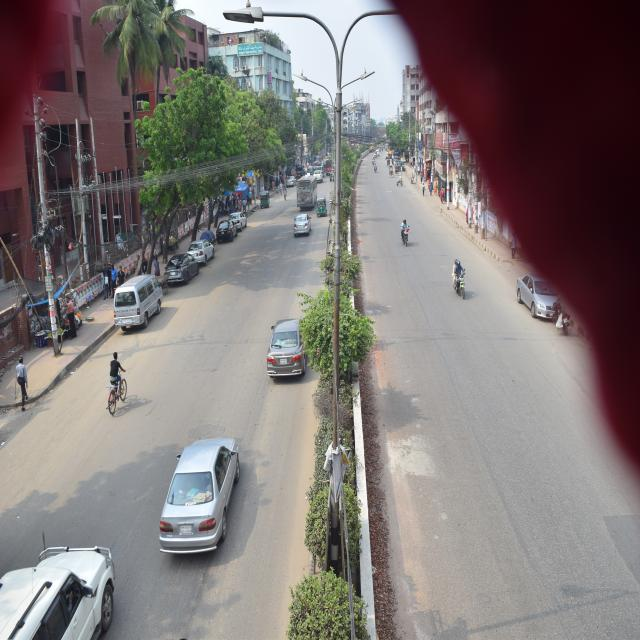bus: (293, 163, 319, 214)
car: (0, 527, 122, 640), (159, 425, 244, 569), (266, 305, 318, 389), (514, 269, 557, 321), (160, 248, 203, 287), (190, 236, 217, 267), (214, 216, 237, 246), (222, 206, 247, 233), (295, 212, 311, 237)
microbus: (108, 271, 166, 339)
motorbike: (548, 294, 574, 336), (449, 264, 471, 298), (397, 220, 414, 247)
